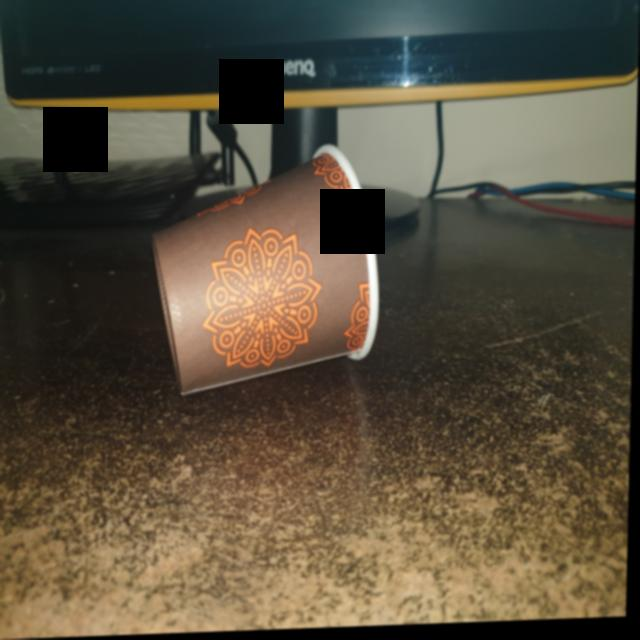cups: (140, 141, 387, 412)
